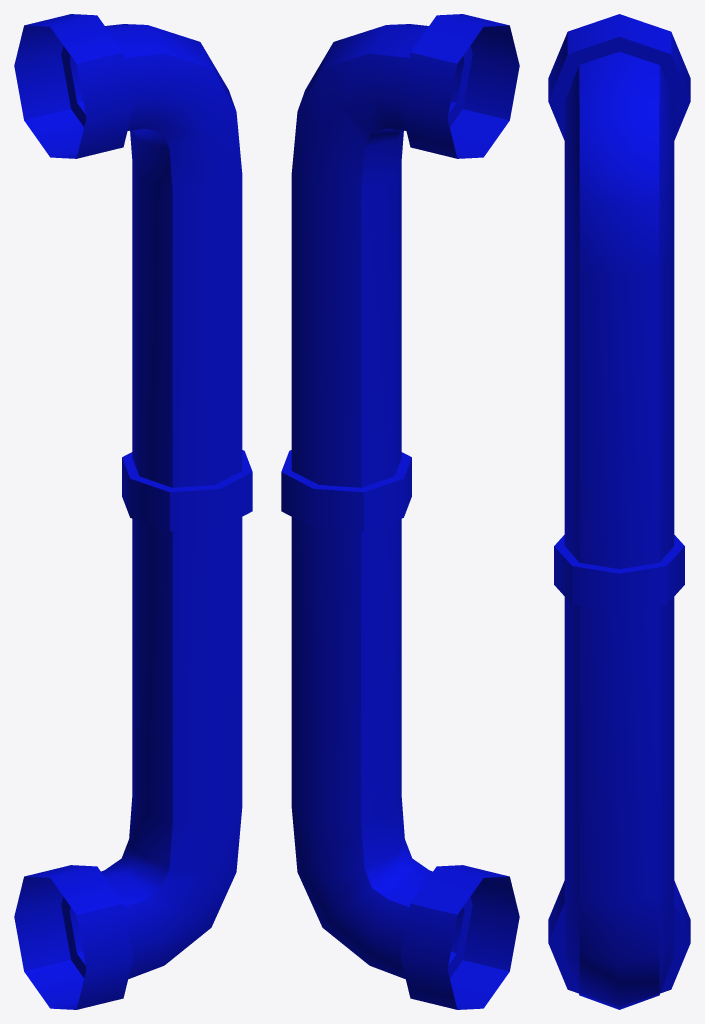
File: SM_VALVE_CANO_07.fbx
The picture shows the model from 3 angles, left to right: view 1: azimuth 30°, elevation 25°; view 2: azimuth 150°, elevation 25°; view 3: azimuth 270°, elevation 25°; orthographic projection.
Visible parts, largest first — view 1: SM_VALVE_CANO_07; view 2: SM_VALVE_CANO_07; view 3: SM_VALVE_CANO_07.
Boxes of the visible parts, x1,y1,x2,y2 form: SM_VALVE_CANO_07: [14, 14, 252, 1009]; SM_VALVE_CANO_07: [281, 14, 519, 1009]; SM_VALVE_CANO_07: [548, 14, 690, 1009].
Size of the model in its own units: 0.5576 by 2.69 by 0.3586.
